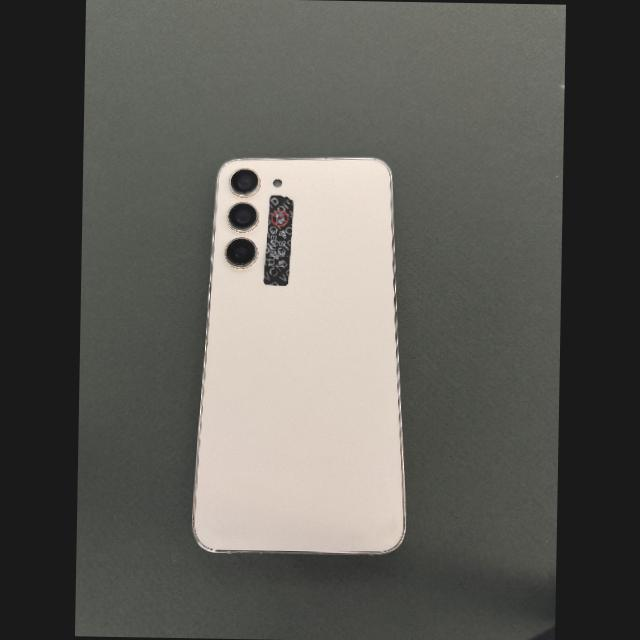lens: (226, 238, 259, 269), (228, 203, 258, 231), (231, 169, 260, 196)
phone: (192, 157, 405, 554)
sticker: (263, 195, 293, 285)
